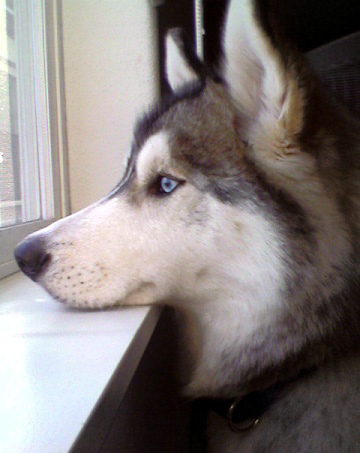dog: (12, 1, 358, 451)
